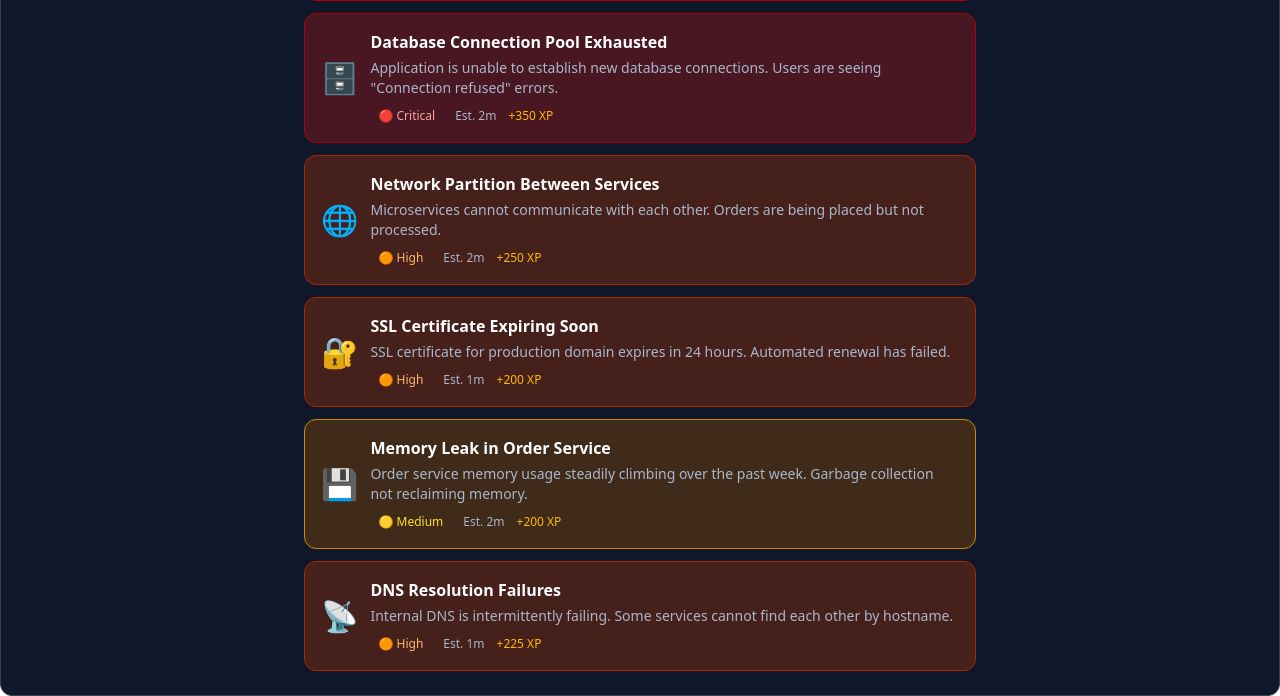
IncidentSimulator › starts a scenario in the diagnostics phase with the symptoms listed
(page scrolled)
Click the button "SSL Certificate Expiring Soon": coordinates (640, 352) [304,297,976,407]
(page scrolled)
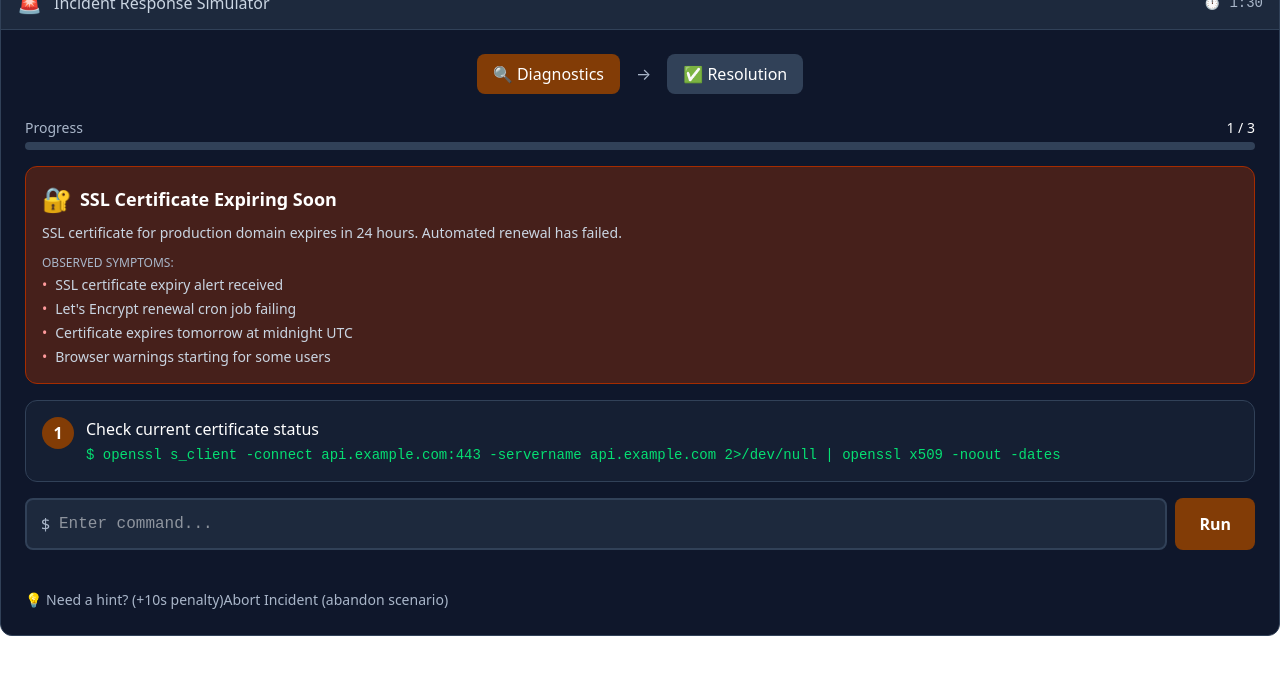
Expected: the text "🔍 Diagnostics" is shown, [493,63,604,85]
Expected: the text "Progress" is shown, [25,118,83,138]
Expected: the text "1 / 3" is shown, [1226,118,1255,138]
